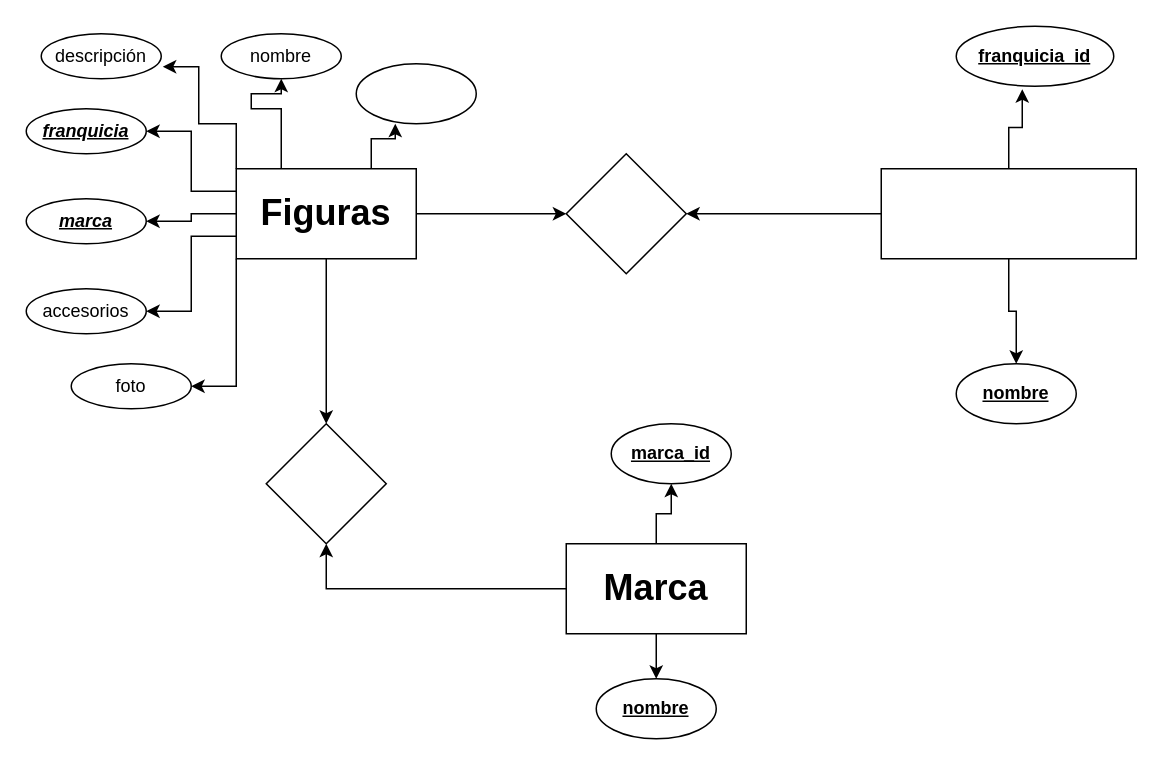
Image size: 1163x765. Some labels were removed from this diagram. The shapes that lost their labels are listed below. From the top down, each one's centre as x and y in pixels, then its label:
At [415,93]: "figura_id".
At [625,213]: "Pertenece".
At [1008,213]: "Franquicias".
At [325,483]: "es hecha".
